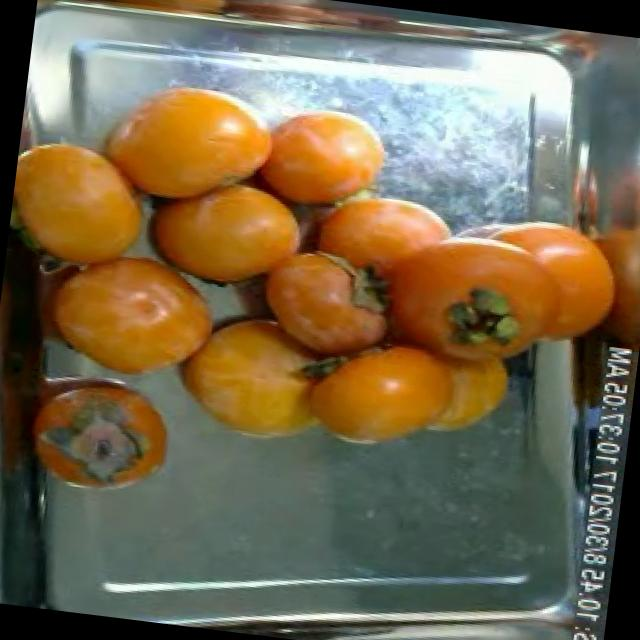Fruit: (16, 218, 247, 400), (72, 60, 289, 227), (153, 286, 342, 462), (323, 306, 536, 462), (3, 116, 170, 289), (125, 159, 322, 304), (237, 231, 408, 381), (232, 88, 411, 226)
